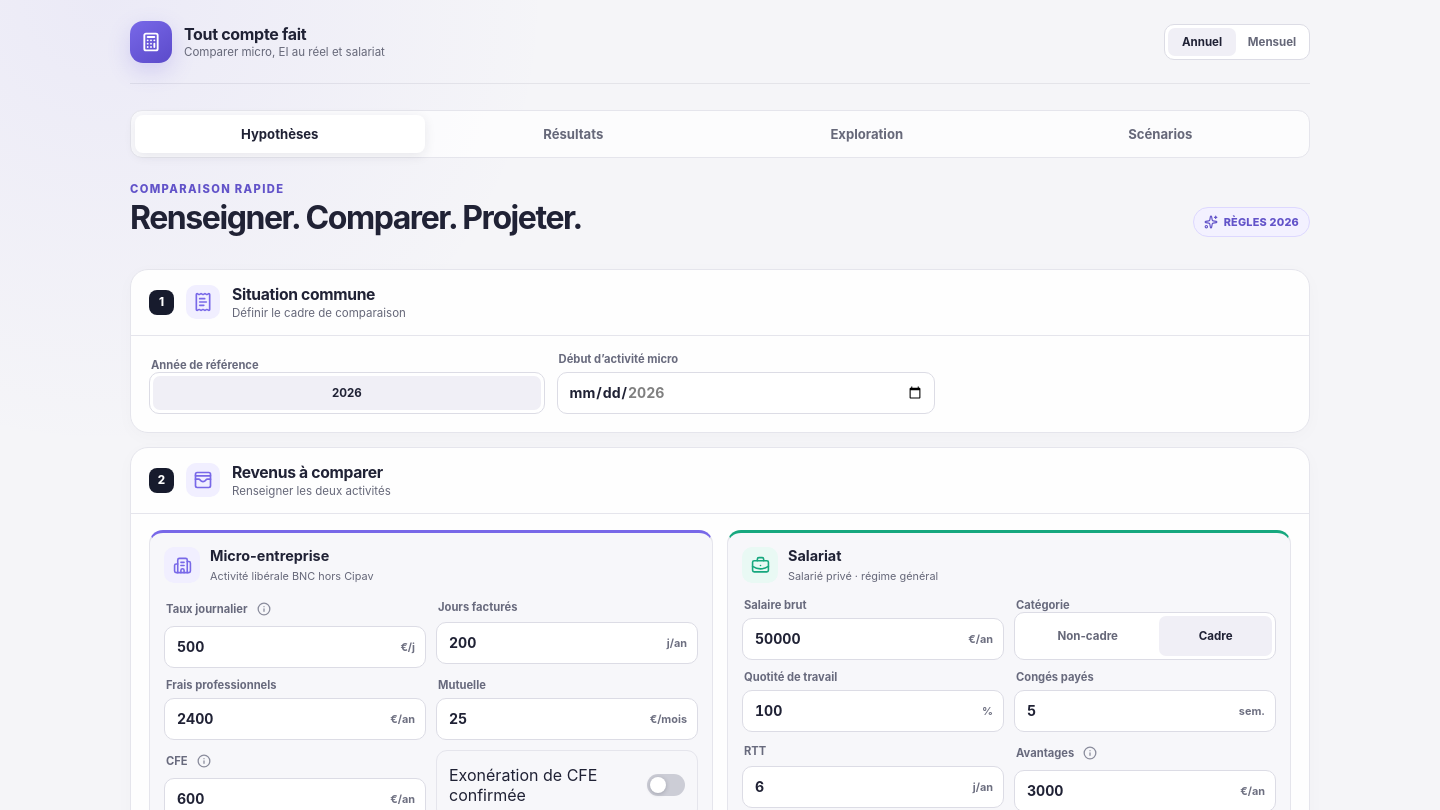
Scenario: decision tools › exposes stress confidence, engine warnings, and eligibility-history limits
Replace the text in the number field labelled "CFE" with "0": {"x": 280, "y": 799} [175,789,384,808]
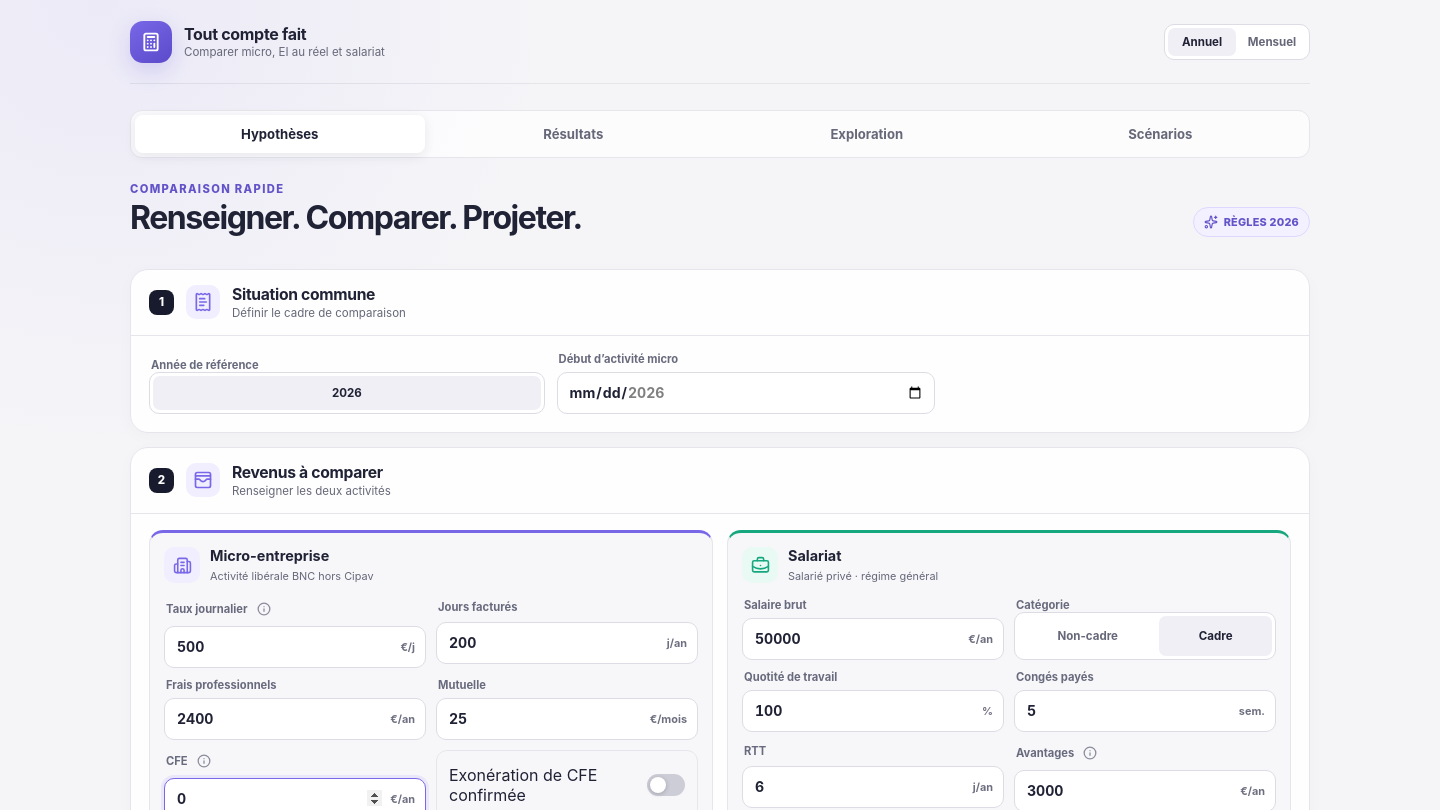
Click the tab "Exploration": {"x": 867, "y": 134} [722,115,1012,153]
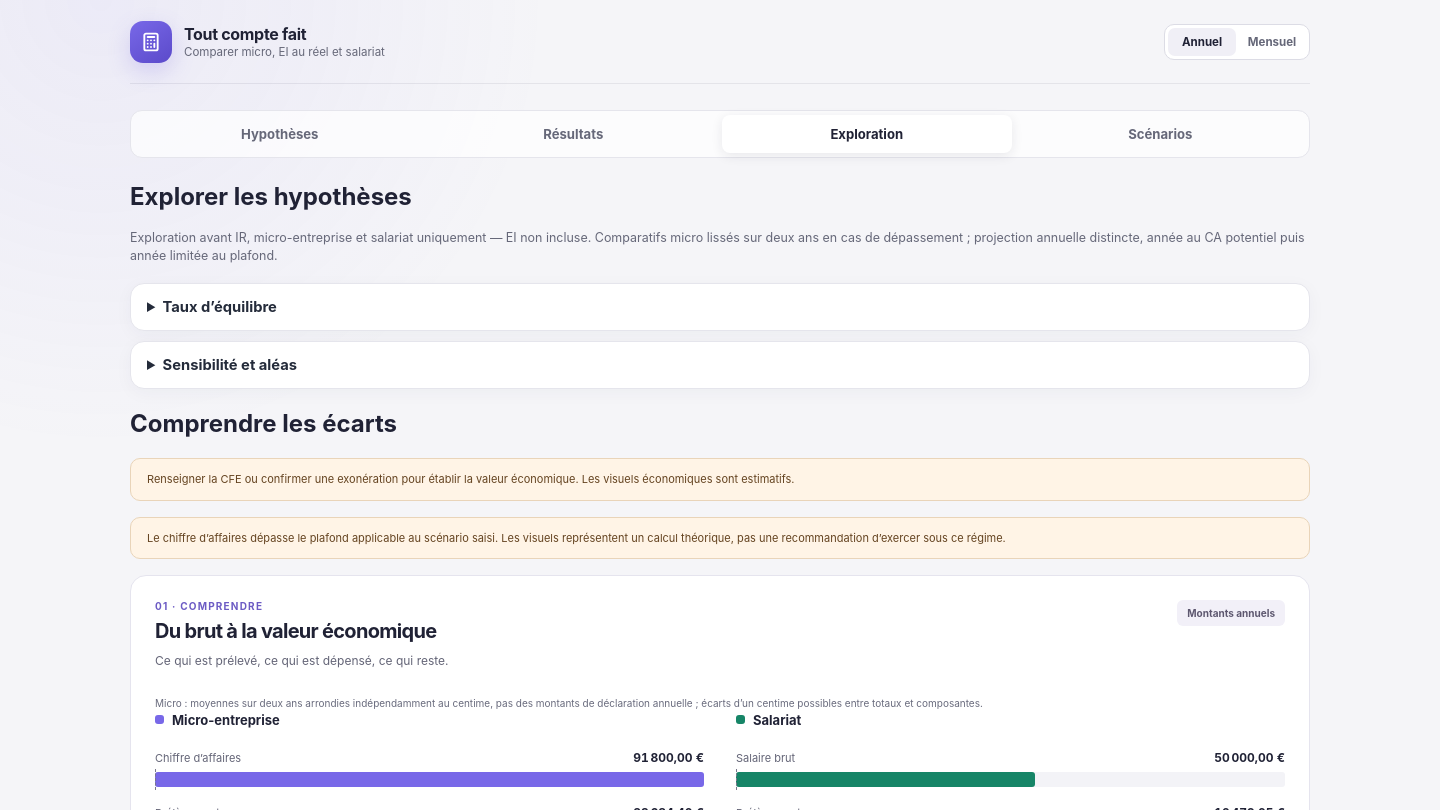
Click the heading "Sensibilité et aléas": {"x": 230, "y": 365} [163,356,297,374]
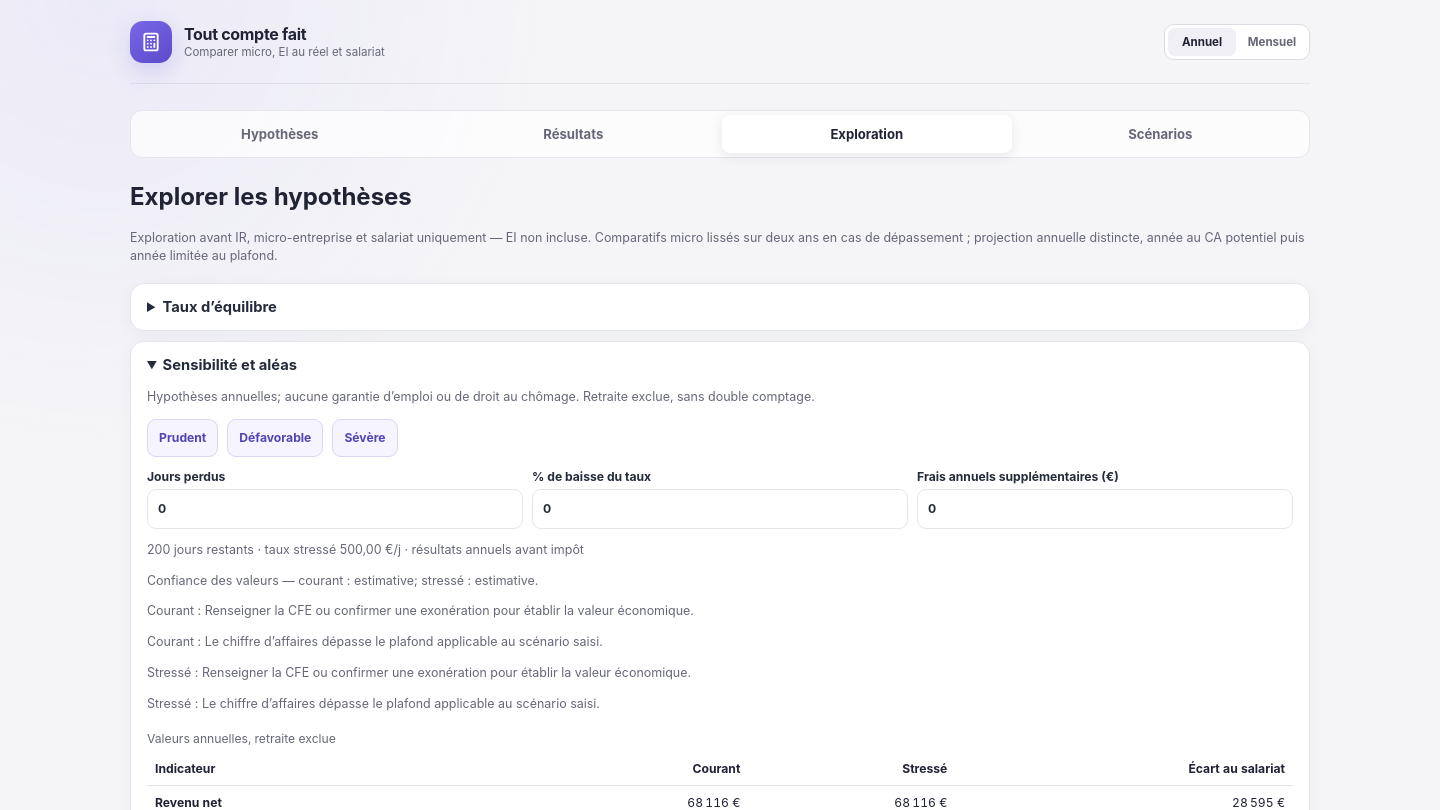
expect the text "estimative" is shown: met, box [354,573,414,588]
expect the text "CFE" is shown: met, box [205,603,694,618]
expect the text "plafond" is shown: met, box [205,634,603,649]
